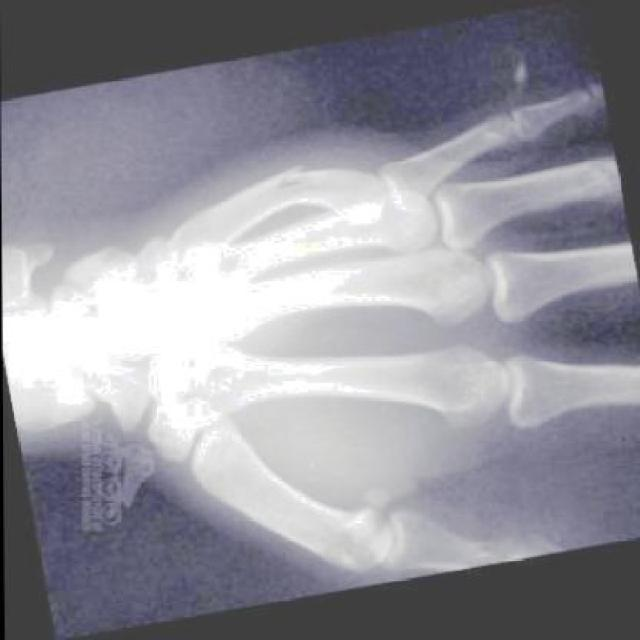Fracture: (266, 155, 345, 217)
